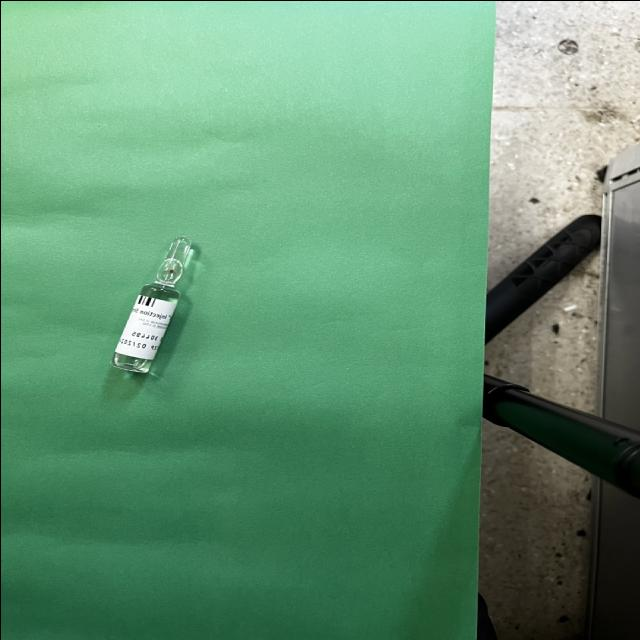Ampoules: (111, 236, 192, 372)
